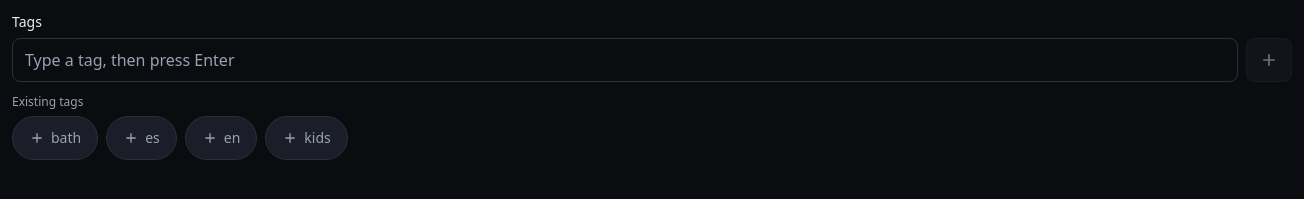
TagEditor › suggestions › narrows them as you type
This screenshot has width=1304, height=199.
In the field labelled "Tags": (625, 60) [12,38,1238,82], type "K"
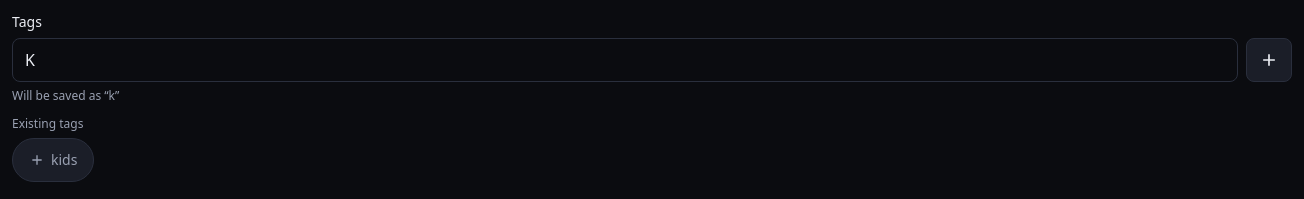
Expected: the elements with test id "suggestion" read "kids", in this order, [12,138,94,182]
